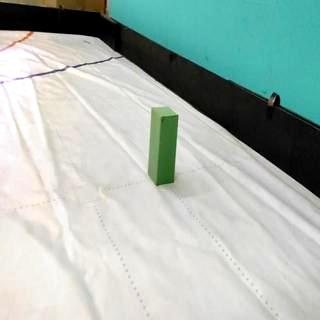greenbox: (148, 106, 179, 186)
